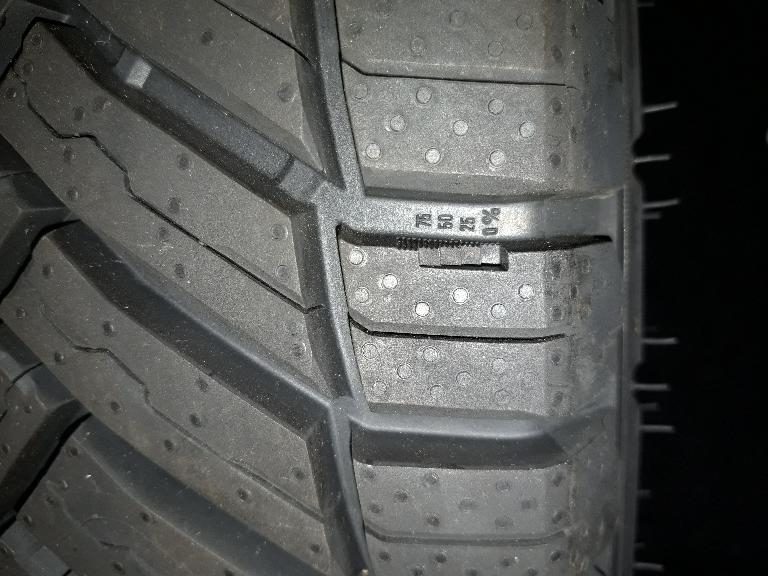temoin:100: (393, 234, 511, 274)
